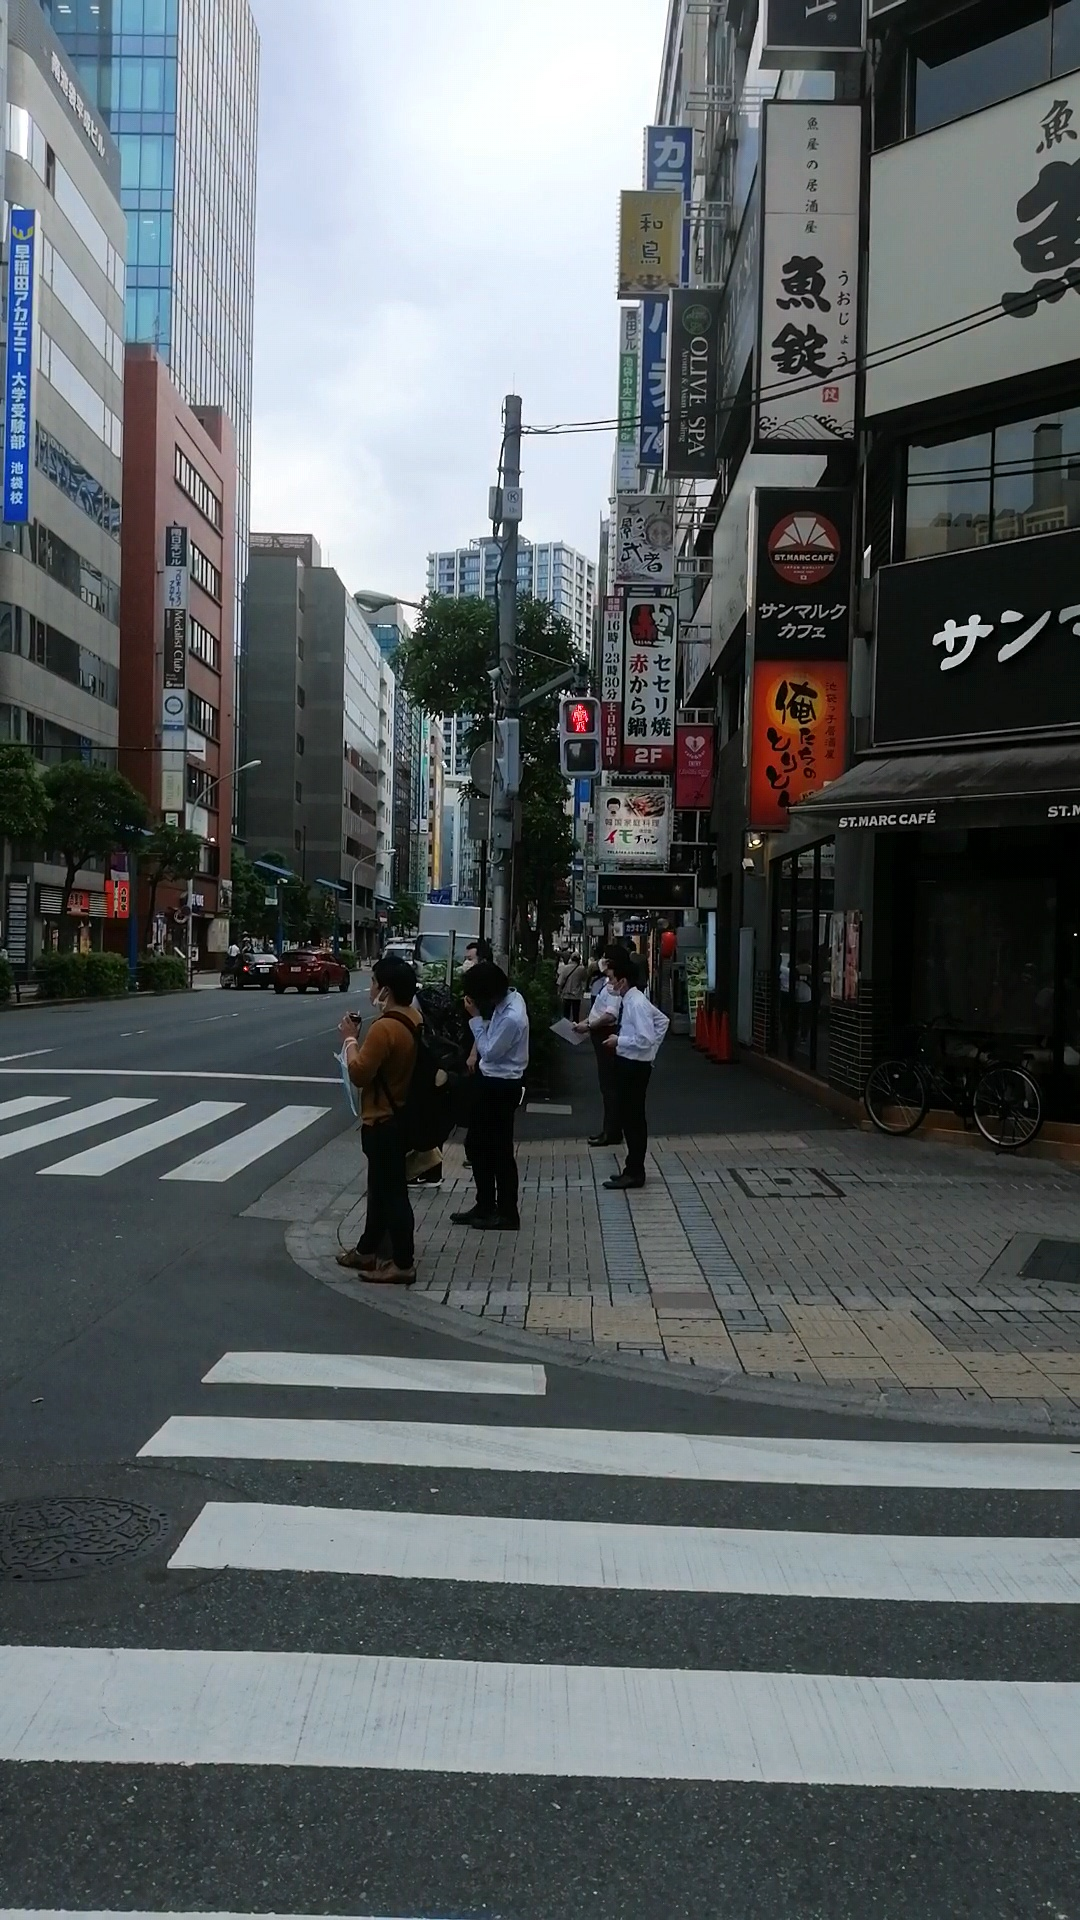red: (556, 695, 604, 778)
